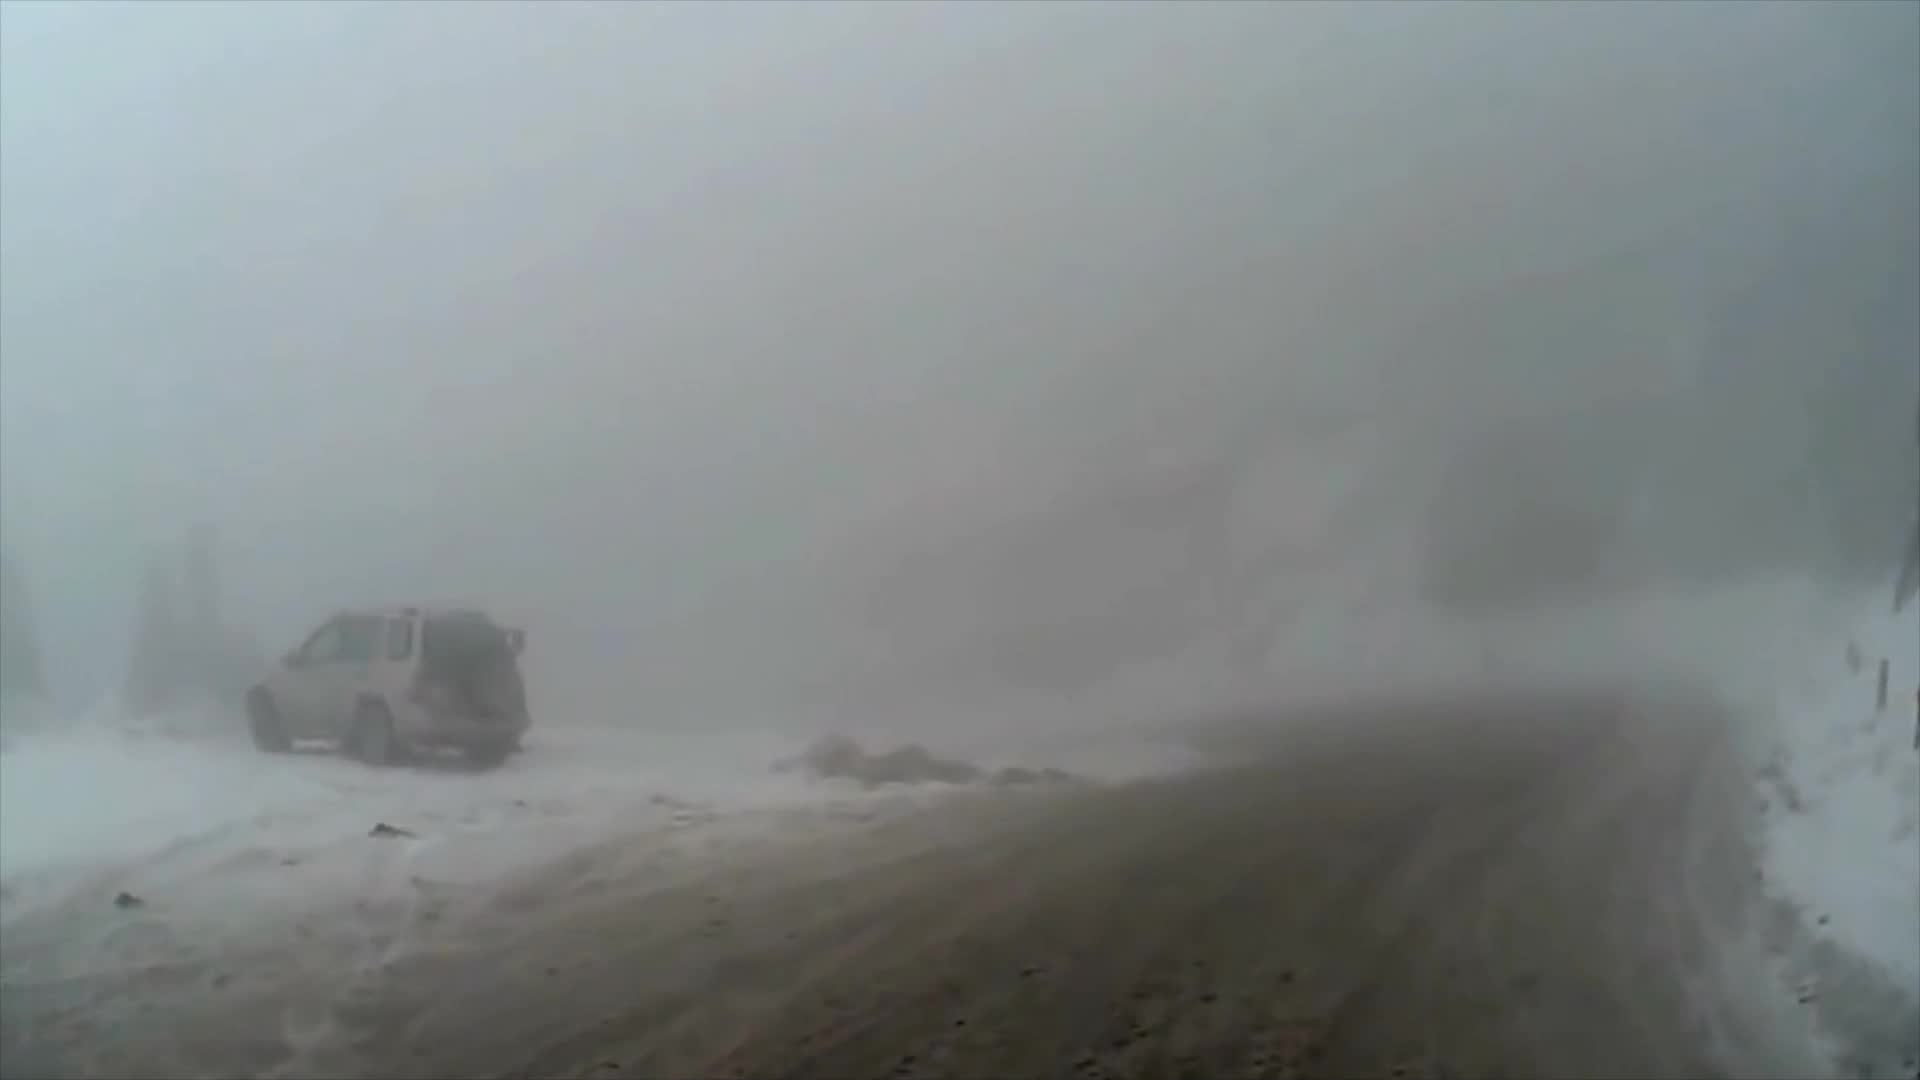vehicle: (241, 597, 524, 767)
